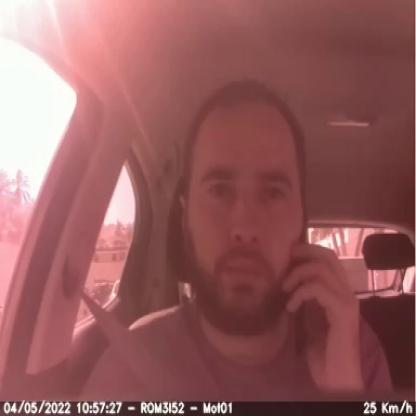phone: (286, 219, 320, 356)
